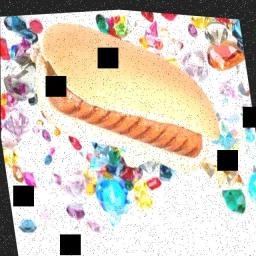hotdog: (29, 2, 231, 197)
